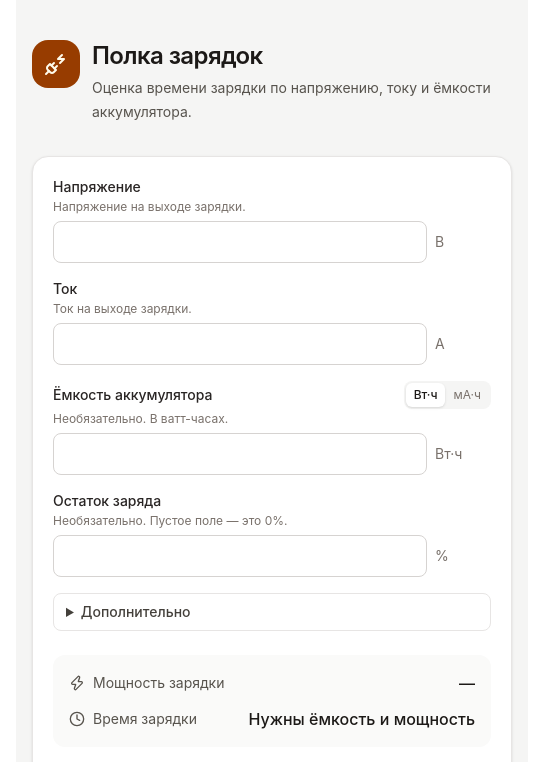
Test case: home calculator › estimates the same time for equivalent mAh at the same voltage
Type "5" into the number field labelled "Напряжение" at (240, 242), box x1=53 y1=221 x2=427 y2=263
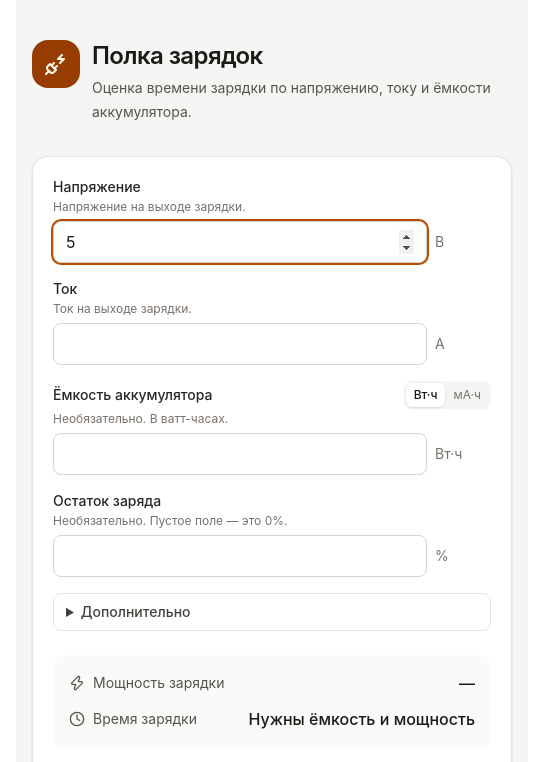
Type "2" into the number field labelled "Ток" at (240, 344), box x1=53 y1=323 x2=427 y2=365
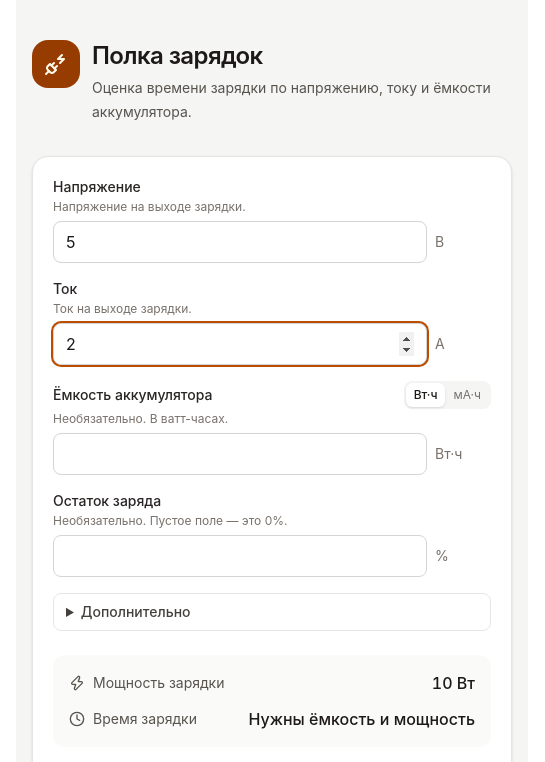
Type "10" into the number field labelled "Ёмкость аккумулятора" at (240, 454), box x1=53 y1=433 x2=427 y2=475
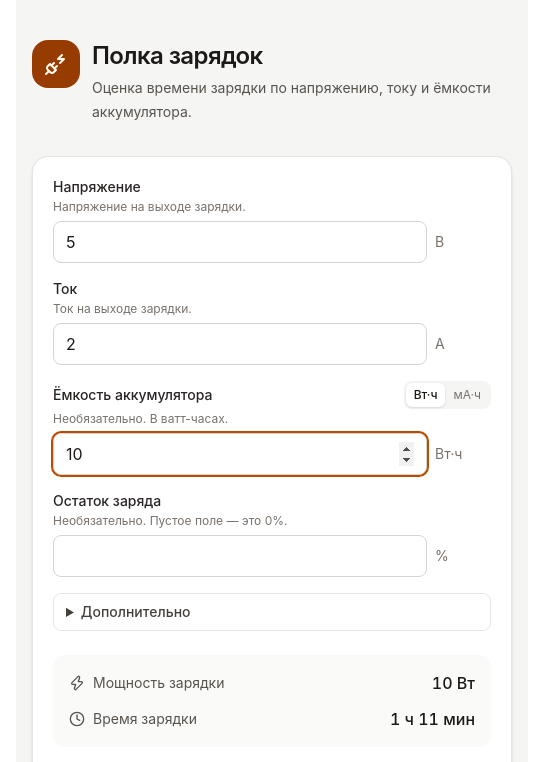
Expected: the text "1 ч 11 мин" is shown, x1=390 y1=707 x2=475 y2=731
Clear the number field labelled "Ёмкость аккумулятора" at (240, 454), box x1=53 y1=433 x2=427 y2=475
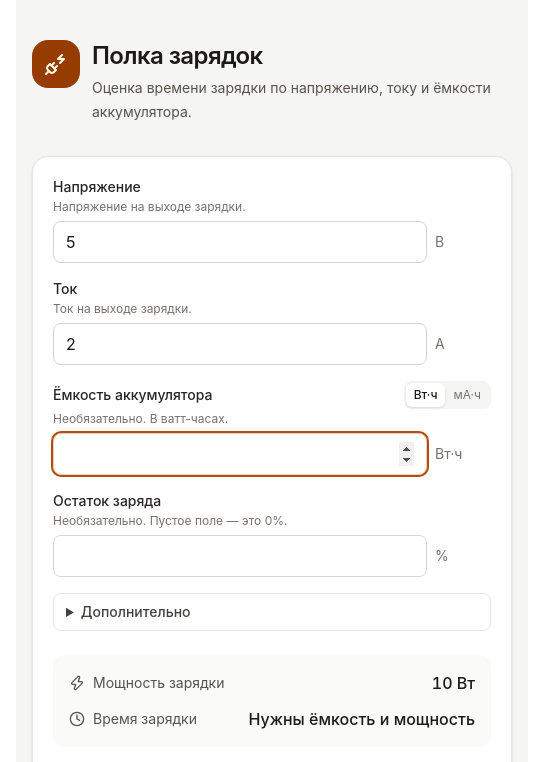
Click the button "мА·ч" at (467, 395), box x1=446 y1=383 x2=489 y2=407
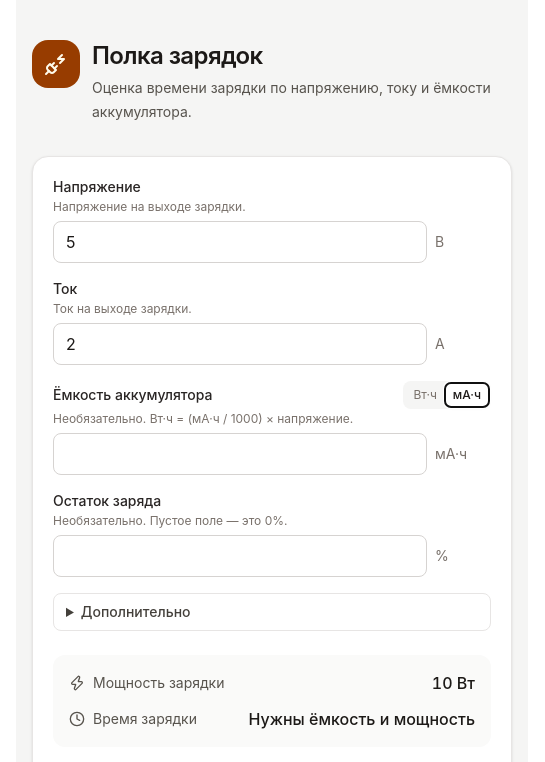
Type "2000" into the number field labelled "Ёмкость аккумулятора" at (240, 454), box x1=53 y1=433 x2=427 y2=475
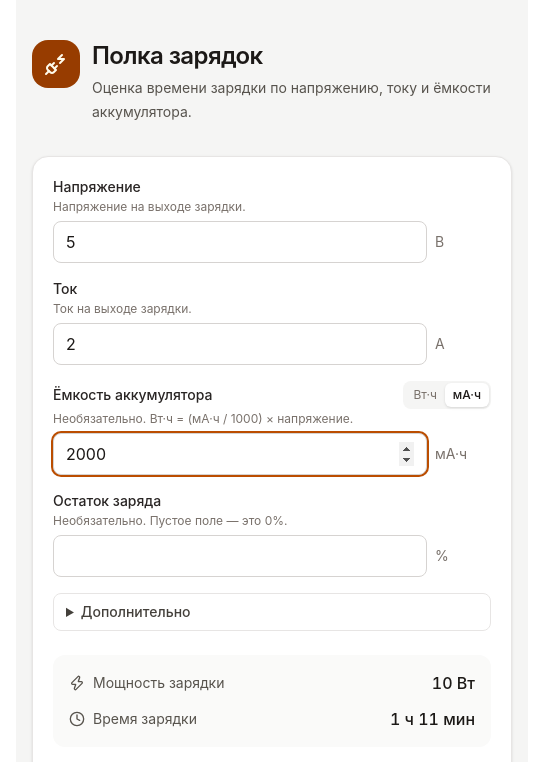
Expected: the text "10 Вт" is shown, x1=432 y1=671 x2=475 y2=695
Expected: the text "1 ч 11 мин" is shown, x1=390 y1=707 x2=475 y2=731
